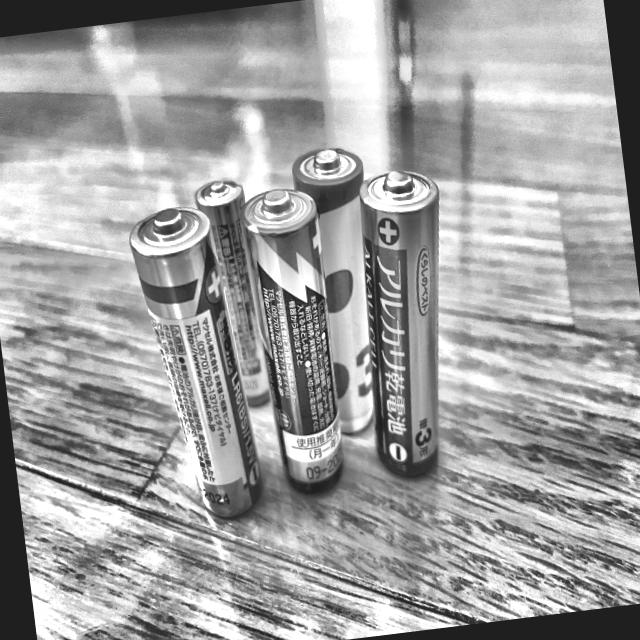drycell: (112, 194, 272, 533), (342, 159, 481, 486)
